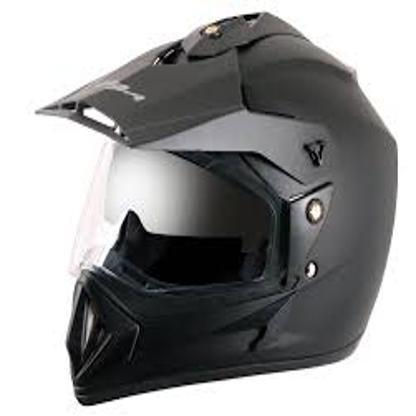not trash: (35, 11, 402, 408)
